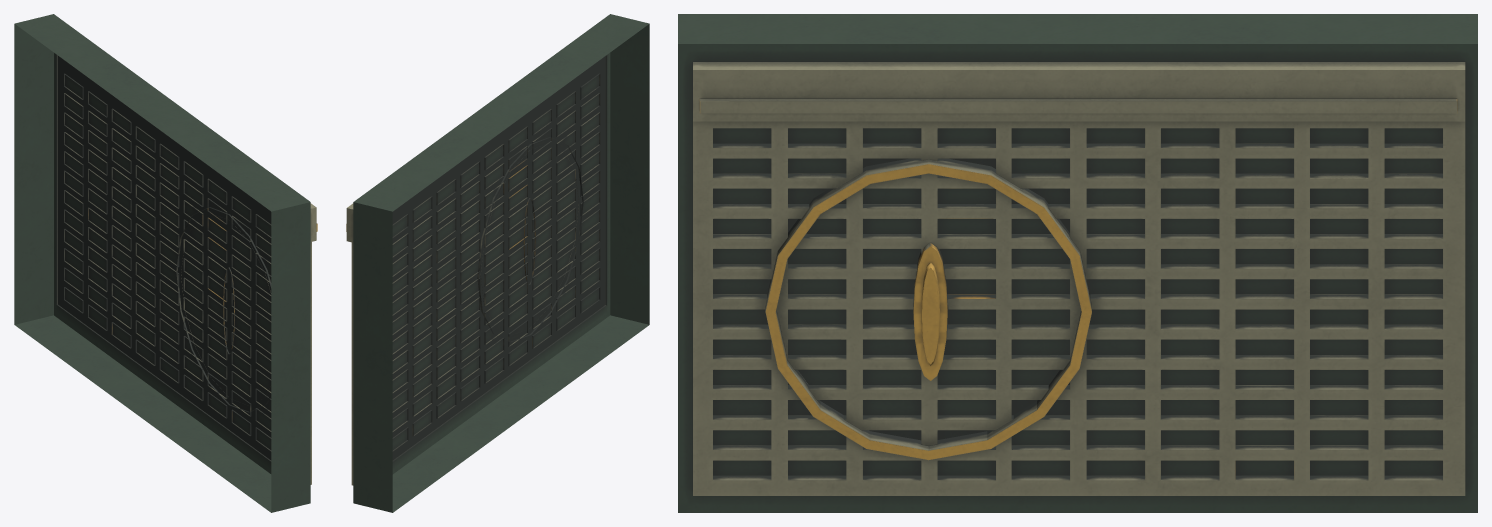
The model's file is SM_Ventilator.fbx.
3 views of the same model, side by side, from view 1: azimuth 30°, elevation 25°; view 2: azimuth 150°, elevation 25°; view 3: azimuth 270°, elevation 25° (orthographic). The views are drawn at different scales.
Parts seen in each view (by area): view 1: SM_Ventilator; view 2: SM_Ventilator; view 3: SM_Ventilator.
Boxes of the visible parts, <box> form: SM_Ventilator: <box>14,14,317,512</box>; SM_Ventilator: <box>346,14,649,512</box>; SM_Ventilator: <box>678,14,1477,512</box>.
Size of the model in its own units: 4.46 by 37.3 by 24.13.
Materials: 1 (1 with a texture image).
